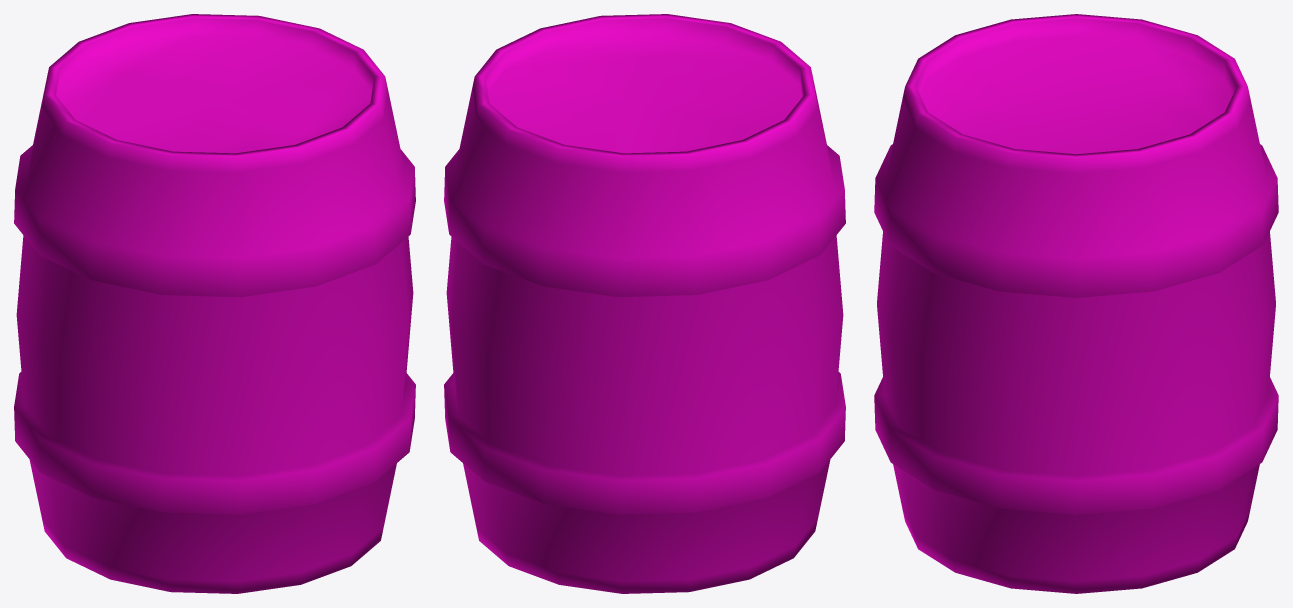
File: Barrel_01.fbx
The picture shows the model from 3 angles, left to right: view 1: azimuth 30°, elevation 25°; view 2: azimuth 150°, elevation 25°; view 3: azimuth 270°, elevation 25°; orthographic projection.
Parts seen in each view (by area): view 1: Barrel_01; view 2: Barrel_01; view 3: Barrel_01.
Boxes of the visible parts, left/top/right/bottom form: Barrel_01: left=14, top=14, right=415, bottom=593; Barrel_01: left=444, top=14, right=845, bottom=593; Barrel_01: left=874, top=14, right=1278, bottom=593.
Bounding box in the file's own units: 67.3 × 79.88 × 67.3.
